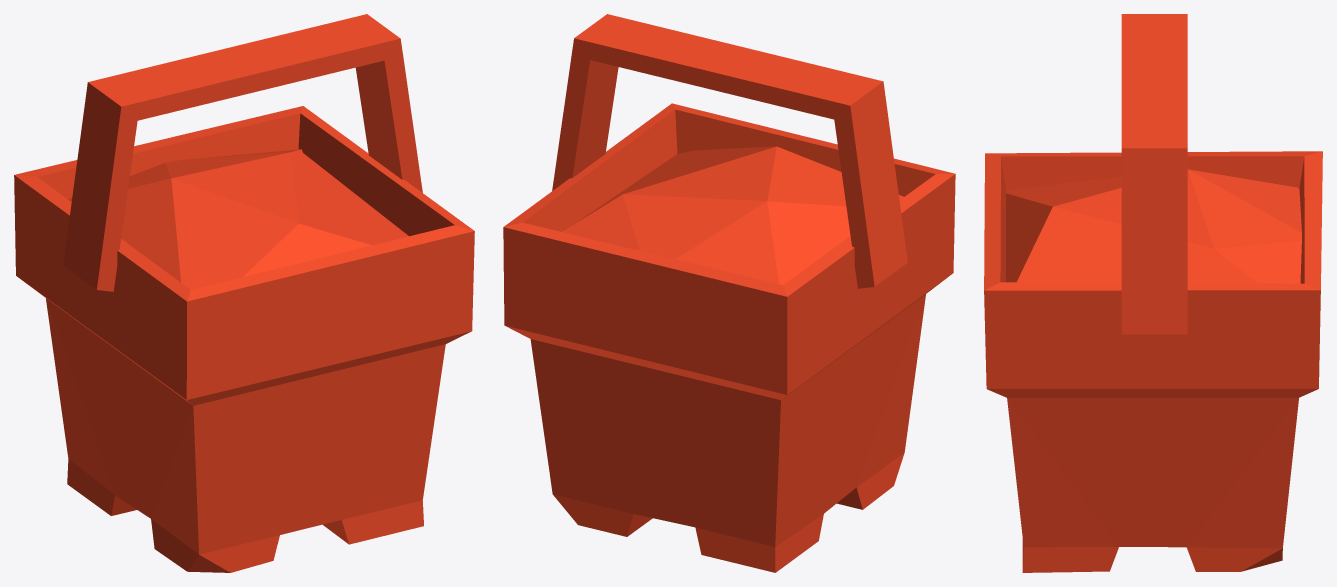
The model's file is SM_Form_Toy_B_City.fbx.
The picture shows the model from 3 angles, left to right: view 1: azimuth 30°, elevation 25°; view 2: azimuth 150°, elevation 25°; view 3: azimuth 270°, elevation 25°; orthographic projection.
Visible parts, largest first — view 1: SM_Form_Toy_B_City; view 2: SM_Form_Toy_B_City; view 3: SM_Form_Toy_B_City.
Part boxes in pixels (box(x1,y1,x2,y2)): SM_Form_Toy_B_City: box(14, 14, 474, 572); SM_Form_Toy_B_City: box(503, 14, 955, 572); SM_Form_Toy_B_City: box(984, 14, 1322, 572).
Size of the model in its own units: 0.2139 by 0.2766 by 0.1941.
